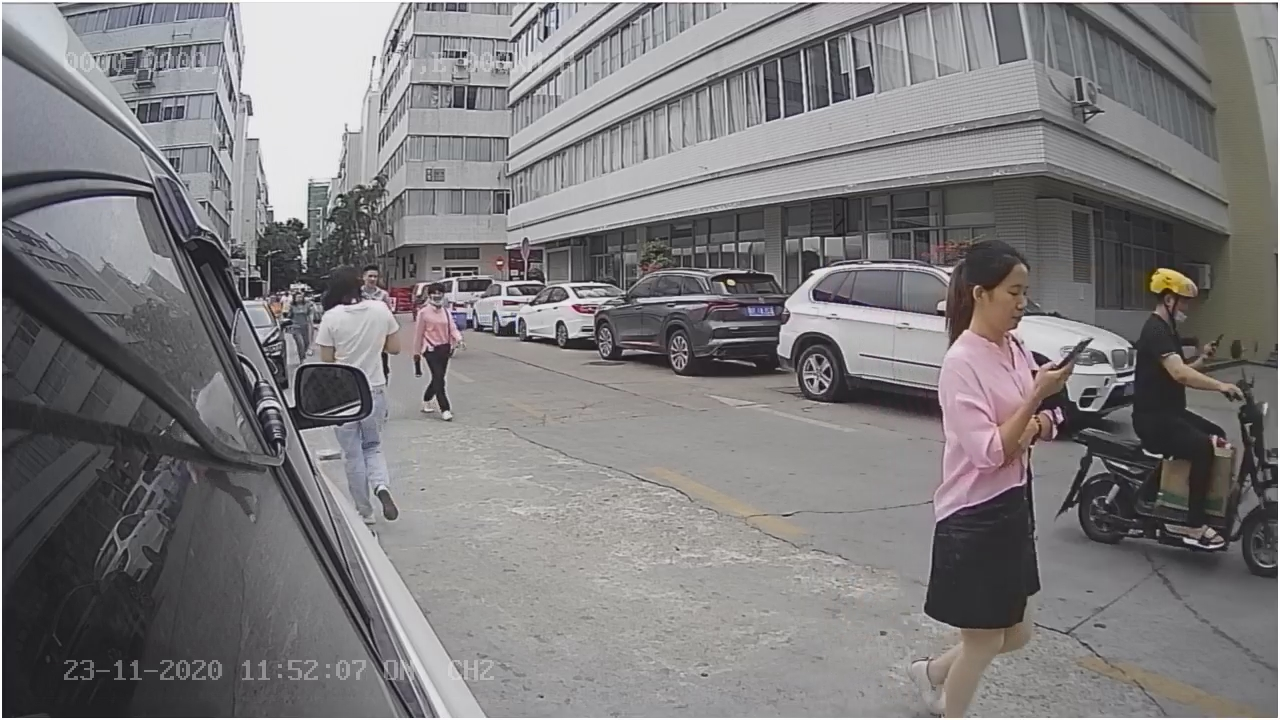person: (937, 241, 1075, 474), (402, 279, 473, 422)
